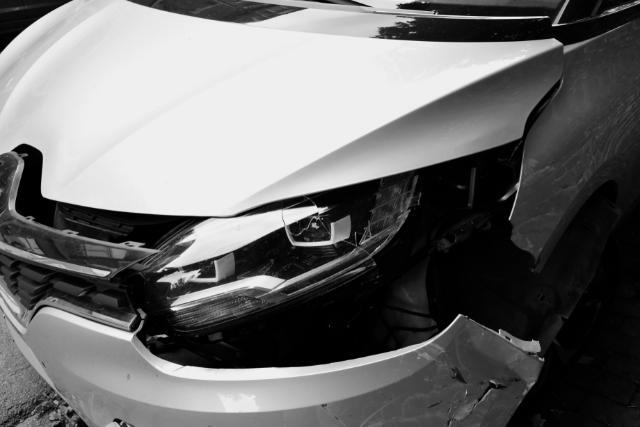Bumper: (0, 290, 540, 427)
Fender: (521, 60, 623, 228)
Light: (157, 199, 412, 278)
